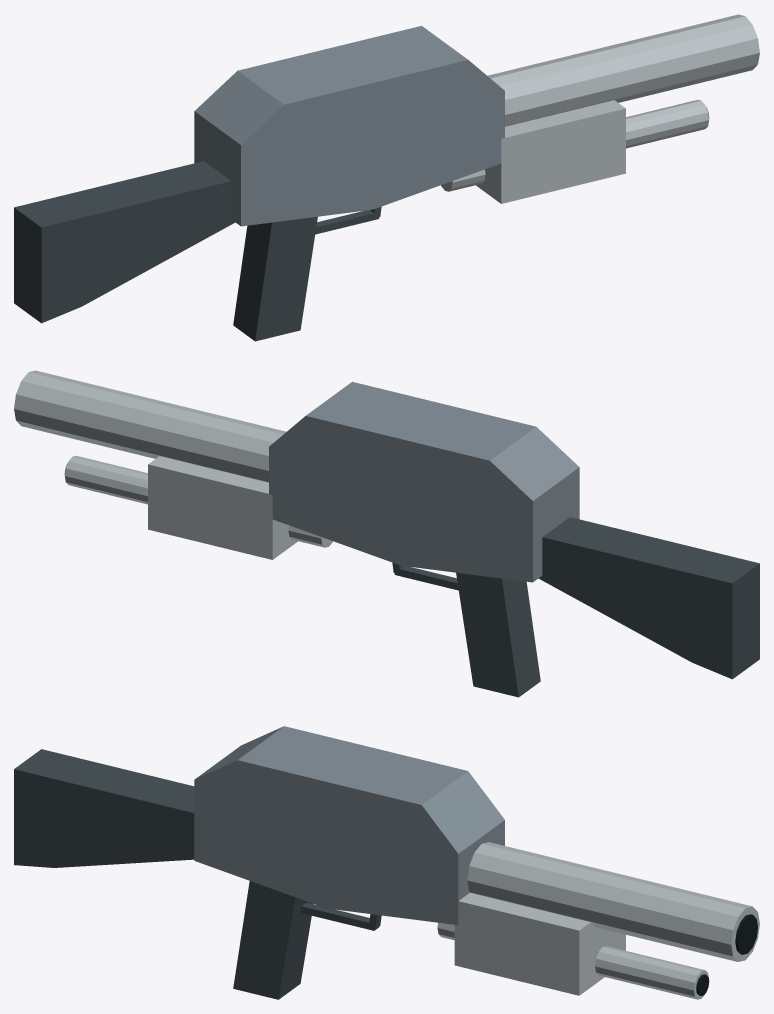
File: w07-reliquary-static.glb
3 renders of one model, top to bottom at view 1: azimuth 30°, elevation 25°; view 2: azimuth 150°, elevation 25°; view 3: azimuth 330°, elevation 25°, orthographic.
Visible parts, largest first — view 1: w07-reliquary__receiver.001, w07-reliquary__stock.001, w07-reliquary__barrel.001, w07-reliquary__pump.001, w07-reliquary__grip.001, w07-reliquary__shell_tube.001, w07-reliquary__guard_bottom.001; view 2: w07-reliquary__receiver.001, w07-reliquary__stock.001, w07-reliquary__barrel.001, w07-reliquary__pump.001, w07-reliquary__grip.001, w07-reliquary__shell_tube.001, w07-reliquary__guard_bottom.001; view 3: w07-reliquary__receiver.001, w07-reliquary__stock.001, w07-reliquary__barrel.001, w07-reliquary__pump.001, w07-reliquary__grip.001, w07-reliquary__shell_tube.001, w07-reliquary__guard_bottom.001, w07-reliquary__barrel_bore.001.
Part boxes in pixels (box(x1,y1,x2,y2)): w07-reliquary__receiver.001: box(194, 25, 504, 226); w07-reliquary__stock.001: box(14, 161, 235, 323); w07-reliquary__barrel.001: box(487, 14, 759, 126); w07-reliquary__pump.001: box(476, 100, 625, 203); w07-reliquary__grip.001: box(233, 216, 317, 341); w07-reliquary__shell_tube.001: box(441, 99, 709, 191); w07-reliquary__guard_bottom.001: box(315, 210, 379, 234); w07-reliquary__receiver.001: box(269, 381, 579, 582); w07-reliquary__stock.001: box(538, 517, 759, 679); w07-reliquary__barrel.001: box(14, 370, 286, 482); w07-reliquary__pump.001: box(148, 456, 297, 559); w07-reliquary__grip.001: box(456, 572, 540, 697); w07-reliquary__shell_tube.001: box(64, 455, 332, 547); w07-reliquary__guard_bottom.001: box(394, 566, 458, 590); w07-reliquary__receiver.001: box(194, 726, 504, 925); w07-reliquary__stock.001: box(14, 749, 194, 867); w07-reliquary__barrel.001: box(467, 842, 759, 961); w07-reliquary__pump.001: box(454, 893, 625, 995); w07-reliquary__grip.001: box(233, 881, 313, 999); w07-reliquary__shell_tube.001: box(437, 922, 709, 999); w07-reliquary__guard_bottom.001: box(301, 902, 378, 930); w07-reliquary__barrel_bore.001: box(735, 914, 757, 954).
Size of the model in its own units: 0.9822 by 0.315 by 0.11.
